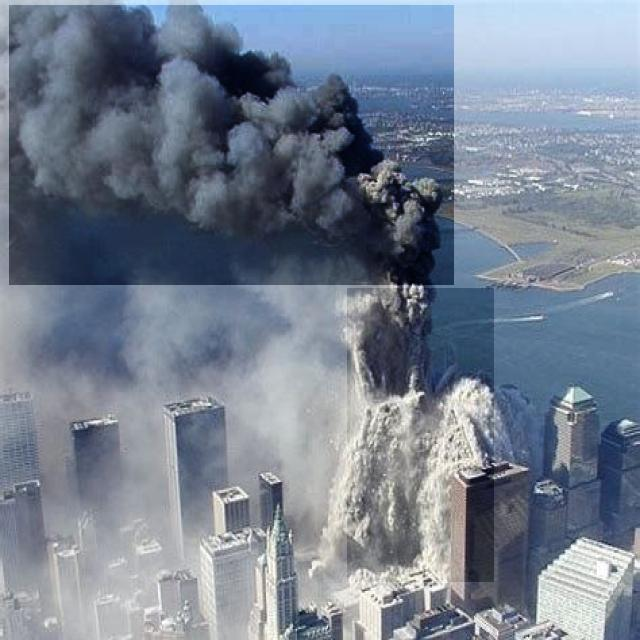Smoke: (9, 6, 454, 286), (347, 288, 494, 582)
